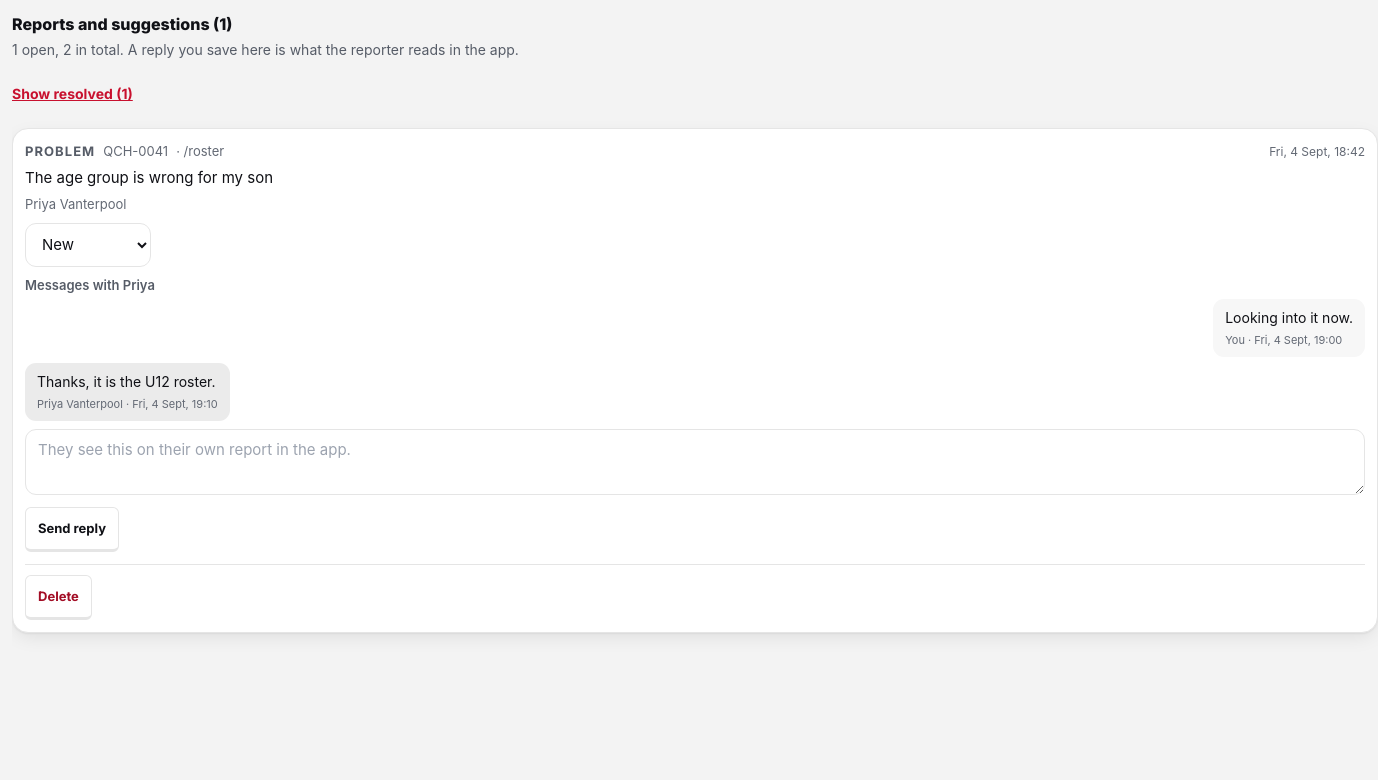
Test: the thread on a report › refuses an empty send with an inline error, not a request
Check: the text box named "message on report 41" is shown, box [25,429,1365,495]
Click the button "Send reply": {"x": 72, "y": 529} [25,507,119,552]
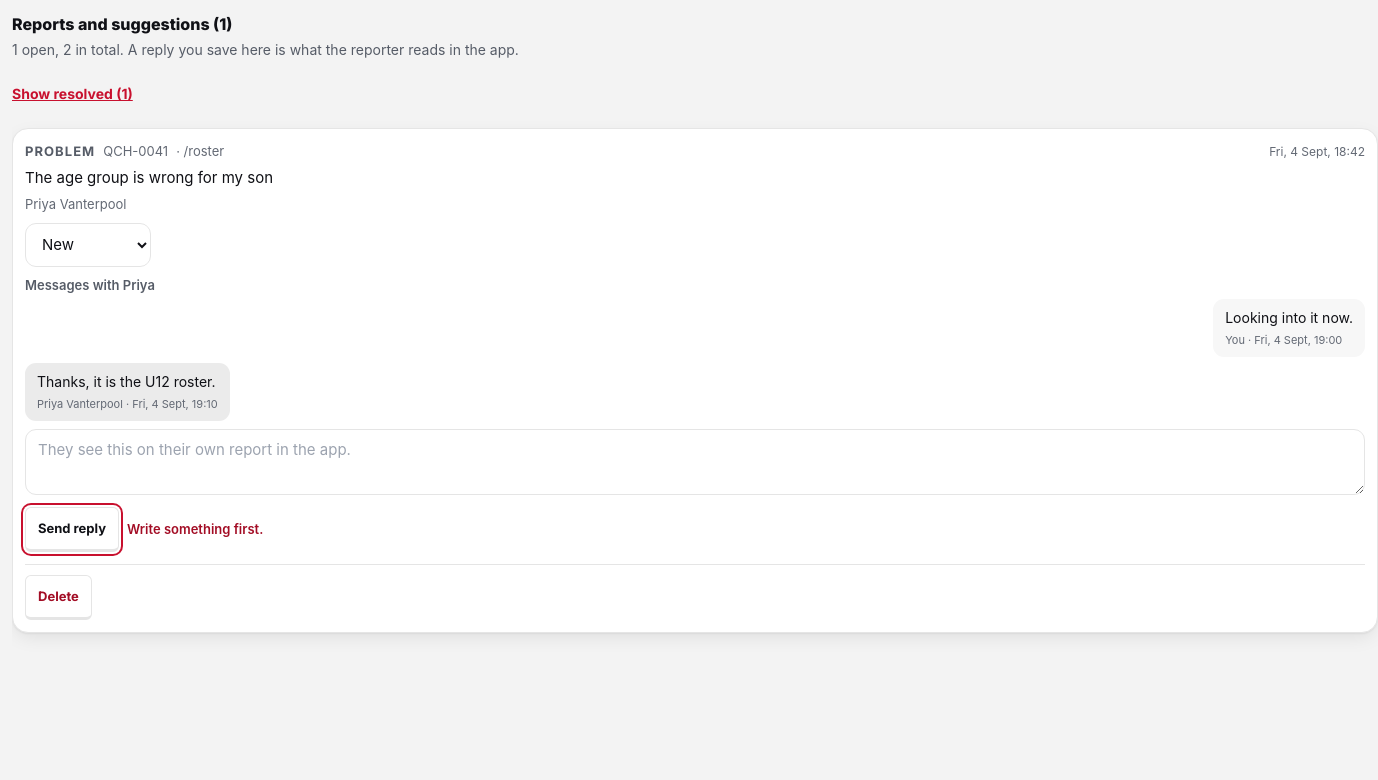
Check: the message shows "Write something first", box [127,521,263,537]
